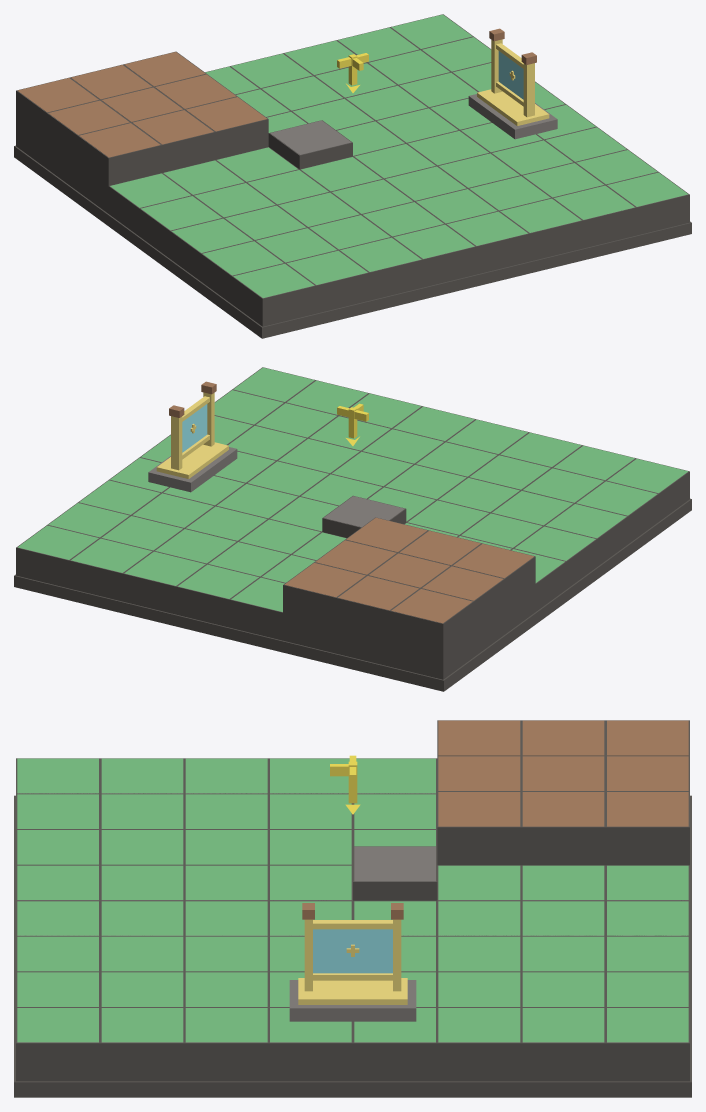
File: world.gltf
3 views of the same model, one above another, from view 1: azimuth 30°, elevation 25°; view 2: azimuth 150°, elevation 25°; view 3: azimuth 270°, elevation 25° (orthographic). The views are drawn at different scales.
Parts seen in each view (by area): view 1: Starter_Parcel_Geometry; view 2: Starter_Parcel_Geometry; view 3: Starter_Parcel_Geometry.
Boxes of the visible parts, <box> form: Starter_Parcel_Geometry: <box>14,14,691,338</box>; Starter_Parcel_Geometry: <box>14,367,691,691</box>; Starter_Parcel_Geometry: <box>14,720,691,1097</box>.
Bounding box in the file's own units: 16.1 × 5 × 16.1.
